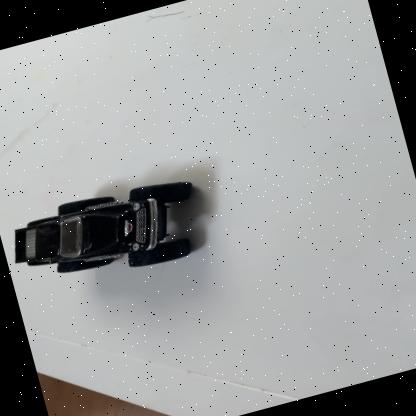black monster truck: (0, 166, 211, 298)
